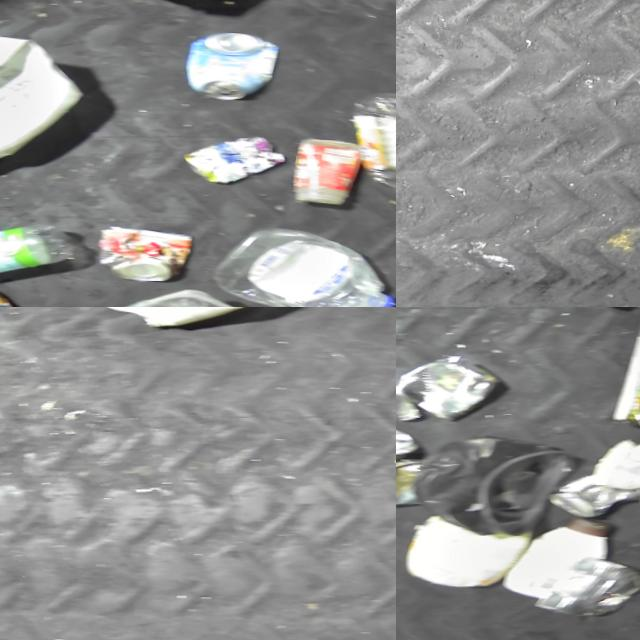can: (180, 31, 278, 106), (396, 354, 495, 424), (90, 223, 191, 286), (179, 135, 281, 188), (542, 476, 640, 523), (396, 457, 418, 510)
milk_jug: (0, 28, 83, 179), (91, 307, 293, 335)
non_white_jug: (408, 433, 574, 542)
plastic_bottle: (208, 226, 394, 307), (342, 89, 396, 227), (0, 221, 75, 289)
